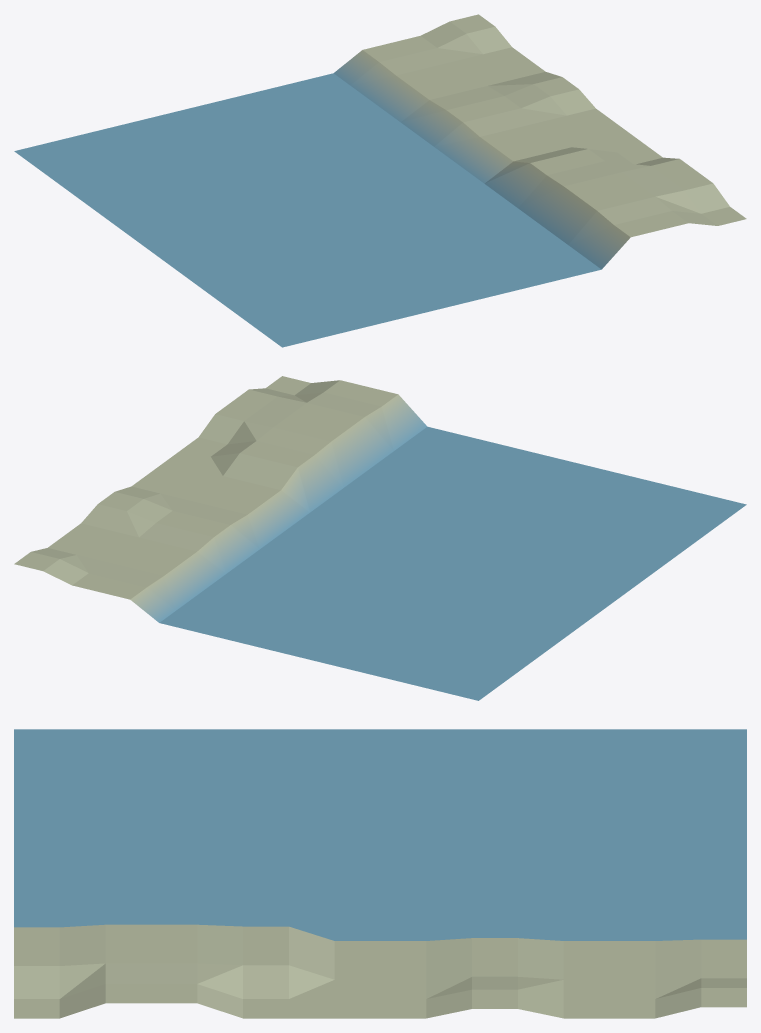
3 views of the same model, one above another, from view 1: azimuth 30°, elevation 25°; view 2: azimuth 150°, elevation 25°; view 3: azimuth 270°, elevation 25° (orthographic). The views are drawn at different scales.
Bounding box in the file's own units: 32 × 1.79 × 32.
